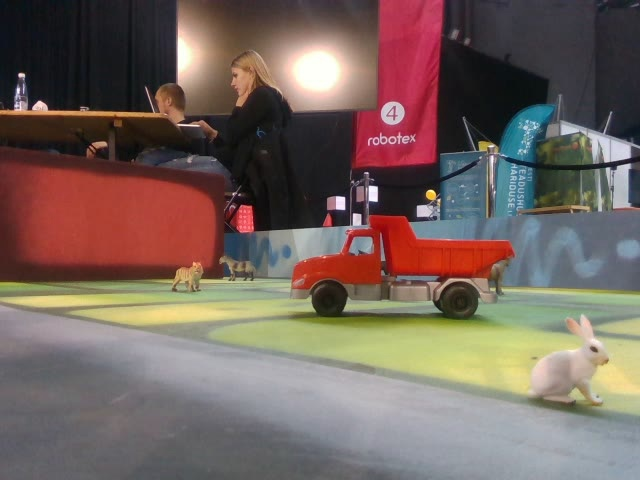toy: (529, 312, 611, 405), (171, 261, 203, 292), (219, 255, 257, 281)
